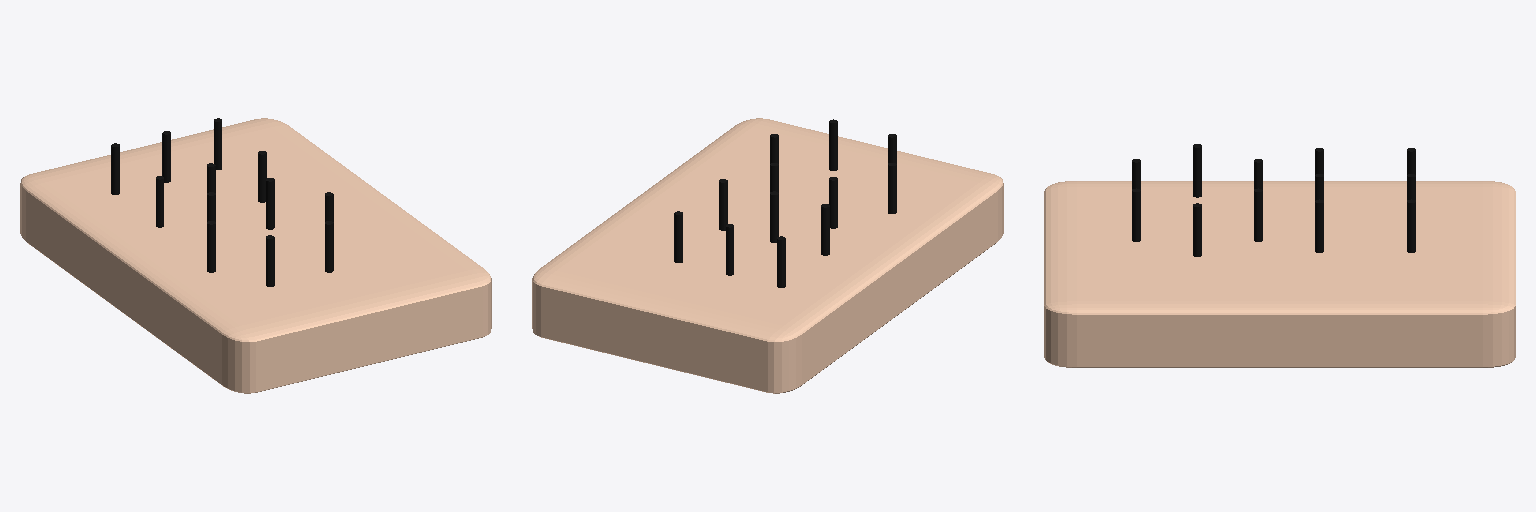
The robot description file, URDF, robot "peg_board":
<?xml version="0.0" ?>
<robot name="peg_board">
    <material name="ROSE_GOLD">
        <color rgba="0.98 0.84 0.74 1"/>
    </material>
    <material name="BLACK">
        <color rgba="0.12 0.12 0.12 1"/>
    </material>
    <!--  block color-->
    <material name="RED">
        <color rgba="0.73 0.05 0.18 0.9"/>
    </material>
    <material name="BLUE">
        <color rgba="0.68 1.00 0.80 0.9"/>
    </material>

    <link name="baseLink">
        <contact>
            <lateral_friction value="1.0"/>
        </contact>
        <inertial>
            <origin rpy="0 0 0" xyz="0 0 0"/>
            <mass value="100.0"/>
            <inertia ixx="0." ixy="0" ixz="0" iyy="0." iyz="0" izz="0."/>
        </inertial>
        <visual>
            <origin rpy="0 0 0" xyz="0 0 0"/>
            <geometry>
                <mesh filename="meshes/board.obj" scale="1 1 1"/>
            </geometry>
            <material name="ROSE_GOLD"/>
        </visual>
        <collision>
            <origin rpy="0 0 0" xyz="0 0 0"/>
            <geometry>
                <box size="0.103 0.154 0.022"/>
            </geometry>
        </collision>
    </link>

    <!--  <link name="peg_0">-->
    <!--&lt;!&ndash;    test purpose&ndash;&gt;-->
    <!--    <contact>-->
    <!--      <lateral_friction value="1.0"/>-->
    <!--    </contact>-->
    <!--    <inertial>-->
    <!--      <origin rpy="0 0 0" xyz="0 0 0"/>-->
    <!--      <mass value=".0"/>-->
    <!--      <inertia ixx="0." ixy="0" ixz="0" iyy="0." iyz="0" izz="0."/>-->
    <!--    </inertial>-->
    <!--    <visual>-->
    <!--      <origin rpy="0 0 0" xyz="0 0 0"/>-->
    <!--      <geometry>-->
    <!--        <mesh filename="meshes/peg.obj" scale="1 1 1"/>-->
    <!--      </geometry>-->
    <!--      <material name="BLACK"/>-->
    <!--    </visual>-->
    <!--    <collision>-->
    <!--      <origin rpy="0 0 0" xyz="0 0 0"/>-->
    <!--      <geometry>-->
    <!--        <cylinder length="0.028" radius="0.001"/>-->
    <!--      </geometry>-->
    <!--    </collision>-->
    <!--  </link>-->

    <!--  <joint name="peg_joint_0" type="fixed">-->
    <!--    <parent link="baseLink"/>-->
    <!--    <child link="peg_0"/>-->
    <!--    <origin rpy="0 0 0" xyz="0 0 0.022"/>-->
    <!--  </joint>-->

    <link name="peg_1">
        <contact>
            <lateral_friction value="1.0"/>
        </contact>
        <inertial>
            <origin rpy="0 0 0" xyz="0 0 0"/>
            <mass value="100.0"/>
            <inertia ixx="0." ixy="0" ixz="0" iyy="0." iyz="0" izz="0."/>
        </inertial>
        <visual>
            <origin rpy="0 0 0" xyz="0 0 0"/>
            <geometry>
                <mesh filename="meshes/peg.obj" scale="1 1 0.6"/>
            </geometry>
            <material name="BLACK"/>
        </visual>
        <collision>
            <origin rpy="0 0 0" xyz="0 0 0"/>
            <geometry>
                <!-- <cylinder length="0.028" radius="0.001"/> -->
                <cylinder length="0.0168" radius="0.001"/>
            </geometry>
        </collision>
    </link>

    <joint name="peg_joint_1" type="fixed">
        <parent link="baseLink"/>
        <child link="peg_1"/>
        <origin rpy="0 0 0" xyz="-0.03 0.043 0.022"/>
    </joint>

    <link name="peg_2">
        <contact>
            <lateral_friction value="1.0"/>
        </contact>
        <inertial>
            <origin rpy="0 0 0" xyz="0 0 0"/>
            <mass value="100.0"/>
            <inertia ixx="0." ixy="0" ixz="0" iyy="0." iyz="0" izz="0."/>
        </inertial>
        <visual>
            <origin rpy="0 0 0" xyz="0 0 0"/>
            <geometry>
                <mesh filename="meshes/peg.obj" scale="1 1 0.6"/>
            </geometry>
            <material name="BLACK"/>
        </visual>
        <collision>
            <origin rpy="0 0 0" xyz="0 0 0"/>
            <geometry>
                <cylinder length="0.0168" radius="0.001"/>
            </geometry>
        </collision>
    </link>

    <joint name="peg_joint_2" type="fixed">
        <parent link="baseLink"/>
        <child link="peg_2"/>
        <origin rpy="0 0 0" xyz="-0.01 0.043 0.022"/>
    </joint>

    <link name="peg_3">
        <contact>
            <lateral_friction value="1.0"/>
        </contact>
        <inertial>
            <origin rpy="0 0 0" xyz="0 0 0"/>
            <mass value="100.0"/>
            <inertia ixx="0." ixy="0" ixz="0" iyy="0." iyz="0" izz="0."/>
        </inertial>
        <visual>
            <origin rpy="0 0 0" xyz="0 0 0"/>
            <geometry>
                <mesh filename="meshes/peg.obj" scale="1 1 0.6"/>
            </geometry>
            <material name="BLACK"/>
        </visual>
        <collision>
            <origin rpy="0 0 0" xyz="0 0 0"/>
            <geometry>
                <cylinder length="0.0168" radius="0.001"/>
            </geometry>
        </collision>
    </link>

    <joint name="peg_joint_3" type="fixed">
        <parent link="baseLink"/>
        <child link="peg_3"/>
        <origin rpy="0 0 0" xyz="0.01 0.043 0.022"/>
    </joint>

    <link name="peg_4">
        <contact>
            <lateral_friction value="1.0"/>
        </contact>
        <inertial>
            <origin rpy="0 0 0" xyz="0 0 0"/>
            <mass value="100.0"/>
            <inertia ixx="0." ixy="0" ixz="0" iyy="0." iyz="0" izz="0."/>
        </inertial>
        <visual>
            <origin rpy="0 0 0" xyz="0 0 0"/>
            <geometry>
                <mesh filename="meshes/peg.obj" scale="1 1 0.6"/>
            </geometry>
            <material name="BLACK"/>
        </visual>
        <collision>
            <origin rpy="0 0 0" xyz="0 0 0"/>
            <geometry>
                <cylinder length="0.0168" radius="0.001"/>
            </geometry>
        </collision>
    </link>

    <joint name="peg_joint_4" type="fixed">
        <parent link="baseLink"/>
        <child link="peg_4"/>
        <origin rpy="0 0 0" xyz="-0.03 0.013 0.022"/>
    </joint>

    <link name="peg_5">
        <contact>
            <lateral_friction value="1.0"/>
        </contact>
        <inertial>
            <origin rpy="0 0 0" xyz="0 0 0"/>
            <mass value="100.0"/>
            <inertia ixx="0." ixy="0" ixz="0" iyy="0." iyz="0" izz="0."/>
        </inertial>
        <visual>
            <origin rpy="0 0 0" xyz="0 0 0"/>
            <geometry>
                <mesh filename="meshes/peg.obj" scale="1 1 0.6"/>
            </geometry>
            <material name="BLACK"/>
        </visual>
        <collision>
            <origin rpy="0 0 0" xyz="0 0 0"/>
            <geometry>
                <cylinder length="0.0168" radius="0.001"/>
            </geometry>
        </collision>
    </link>

    <joint name="peg_joint_5" type="fixed">
        <parent link="baseLink"/>
        <child link="peg_5"/>
        <origin rpy="0 0 0" xyz="-0.01 0.013 0.022"/>
    </joint>

    <link name="peg_6">
        <contact>
            <lateral_friction value="1.0"/>
        </contact>
        <inertial>
            <origin rpy="0 0 0" xyz="0 0 0"/>
            <mass value="100.0"/>
            <inertia ixx="0." ixy="0" ixz="0" iyy="0." iyz="0" izz="0."/>
        </inertial>
        <visual>
            <origin rpy="0 0 0" xyz="0 0 0"/>
            <geometry>
                <mesh filename="meshes/peg.obj" scale="1 1 0.6"/>
            </geometry>
            <material name="BLACK"/>
        </visual>
        <collision>
            <origin rpy="0 0 0" xyz="0 0 0"/>
            <geometry>
                <cylinder length="0.0168" radius="0.001"/>
            </geometry>
        </collision>
    </link>

    <joint name="peg_joint_6" type="fixed">
        <parent link="baseLink"/>
        <child link="peg_6"/>
        <origin rpy="0 0 0" xyz="0.01 0.013 0.022"/>
    </joint>

    <link name="peg_7">
        <contact>
            <lateral_friction value="1.0"/>
        </contact>
        <inertial>
            <origin rpy="0 0 0" xyz="0 0 0"/>
            <mass value="100.0"/>
            <inertia ixx="0." ixy="0" ixz="0" iyy="0." iyz="0" izz="0."/>
        </inertial>
        <visual>
            <origin rpy="0 0 0" xyz="0 0 0"/>
            <geometry>
                <mesh filename="meshes/peg.obj" scale="1 1 0.6"/>
            </geometry>
            <material name="BLACK"/>
        </visual>
        <collision>
            <origin rpy="0 0 0" xyz="0 0 0"/>
            <geometry>
                <cylinder length="0.0168" radius="0.001"/>
            </geometry>
        </collision>
    </link>

    <joint name="peg_joint_7" type="fixed">
        <parent link="baseLink"/>
        <child link="peg_7"/>
        <origin rpy="0 0 0" xyz="-0.033 -0.027 0.022"/>
    </joint>

    <link name="peg_8">
        <contact>
            <lateral_friction value="1.0"/>
        </contact>
        <inertial>
            <origin rpy="0 0 0" xyz="0 0 0"/>
            <mass value="100.0"/>
            <inertia ixx="0." ixy="0" ixz="0" iyy="0." iyz="0" izz="0."/>
        </inertial>
        <visual>
            <origin rpy="0 0 0" xyz="0 0 0"/>
            <geometry>
                <mesh filename="meshes/peg.obj" scale="1 1 0.6"/>
            </geometry>
            <material name="BLACK"/>
        </visual>
        <collision>
            <origin rpy="0 0 0" xyz="0 0 0"/>
            <geometry>
                <cylinder length="0.0168" radius="0.001"/>
            </geometry>
        </collision>
    </link>

    <joint name="peg_joint_8" type="fixed">
        <parent link="baseLink"/>
        <child link="peg_8"/>
        <origin rpy="0 0 0" xyz="0.013 -0.027 0.022"/>
    </joint>

    <link name="peg_9">
        <contact>
            <lateral_friction value="1.0"/>
        </contact>
        <inertial>
            <origin rpy="0 0 0" xyz="0 0 0"/>
            <mass value="100.0"/>
            <inertia ixx="0." ixy="0" ixz="0" iyy="0." iyz="0" izz="0."/>
        </inertial>
        <visual>
            <origin rpy="0 0 0" xyz="0 0 0"/>
            <geometry>
                <mesh filename="meshes/peg.obj" scale="1 1 0.6"/>
            </geometry>
            <material name="BLACK"/>
        </visual>
        <collision>
            <origin rpy="0 0 0" xyz="0 0 0"/>
            <geometry>
                <cylinder length="0.0168" radius="0.001"/>
            </geometry>
        </collision>
    </link>

    <joint name="peg_joint_9" type="fixed">
        <parent link="baseLink"/>
        <child link="peg_9"/>
        <origin rpy="0 0 0" xyz="-0.0215 -0.007081 0.022"/>
    </joint>

    <link name="peg_10">
        <contact>
            <lateral_friction value="1.0"/>
        </contact>
        <inertial>
            <origin rpy="0 0 0" xyz="0 0 0"/>
            <mass value="100.0"/>
            <inertia ixx="0." ixy="0" ixz="0" iyy="0." iyz="0" izz="0."/>
        </inertial>
        <visual>
            <origin rpy="0 0 0" xyz="0 0 0"/>
            <geometry>
                <mesh filename="meshes/peg.obj" scale="1 1 0.6"/>
            </geometry>
            <material name="BLACK"/>
        </visual>
        <collision>
            <origin rpy="0 0 0" xyz="0 0 0"/>
            <geometry>
                <cylinder length="0.0168" radius="0.001"/>
            </geometry>
        </collision>
    </link>

    <joint name="peg_joint_10" type="fixed">
        <parent link="baseLink"/>
        <child link="peg_10"/>
        <origin rpy="0 0 0" xyz="0.0015 -0.007081 0.022"/>
    </joint>

    <link name="peg_11">
        <contact>
            <lateral_friction value="1.0"/>
        </contact>
        <inertial>
            <origin rpy="0 0 0" xyz="0 0 0"/>
            <mass value="100.0"/>
            <inertia ixx="0." ixy="0" ixz="0" iyy="0." iyz="0" izz="0."/>
        </inertial>
        <visual>
            <origin rpy="0 0 0" xyz="0 0 0"/>
            <geometry>
                <mesh filename="meshes/peg.obj" scale="1 1 0.6"/>
            </geometry>
            <material name="BLACK"/>
        </visual>
        <collision>
            <origin rpy="0 0 0" xyz="0 0 0"/>
            <geometry>
                <cylinder length="0.0168" radius="0.001"/>
            </geometry>
        </collision>
    </link>

    <joint name="peg_joint_11" type="fixed">
        <parent link="baseLink"/>
        <child link="peg_11"/>
        <origin rpy="0 0 0" xyz="-0.0215 -0.046919 0.022"/>
    </joint>

    <link name="peg_12">
        <contact>
            <lateral_friction value="1.0"/>
        </contact>
        <inertial>
            <origin rpy="0 0 0" xyz="0 0 0"/>
            <mass value="100.0"/>
            <inertia ixx="0." ixy="0" ixz="0" iyy="0." iyz="0" izz="0."/>
        </inertial>
        <visual>
            <origin rpy="0 0 0" xyz="0 0 0"/>
            <geometry>
                <mesh filename="meshes/peg.obj" scale="1 1 0.6"/>
            </geometry>
            <material name="BLACK"/>
        </visual>
        <collision>
            <origin rpy="0 0 0" xyz="0 0 0"/>
            <geometry>
                <cylinder length="0.0168" radius="0.001"/>
            </geometry>
        </collision>
    </link>

    <joint name="peg_joint_12" type="fixed">
        <parent link="baseLink"/>
        <child link="peg_12"/>
        <origin rpy="0 0 0" xyz="0.0015 -0.046919 0.022"/>
    </joint>
</robot>

--- What the picture shows (computed from the rendered views, not written in the file) ---
3 views of the same robot in one strip: view 1: azimuth 30°, elevation 25°; view 2: azimuth 150°, elevation 25°; view 3: azimuth 270°, elevation 25° (orthographic).
Robot: peg_board — 13 links, 12 joints (12 fixed); root link baseLink; default pose: every joint at zero.
Links seen in each view (by area): view 1: baseLink; view 2: baseLink; view 3: baseLink.
Boxes of the visible links, x1,y1,x2,y2 form: baseLink: (20,118,491,393); baseLink: (532,118,1003,393); baseLink: (1044,181,1515,367).
Bounding box of the posed robot: 0.103 × 0.154 × 0.042 m (x, y, z).
13 mesh visuals loaded from 2 distinct referenced files (2 OBJ).